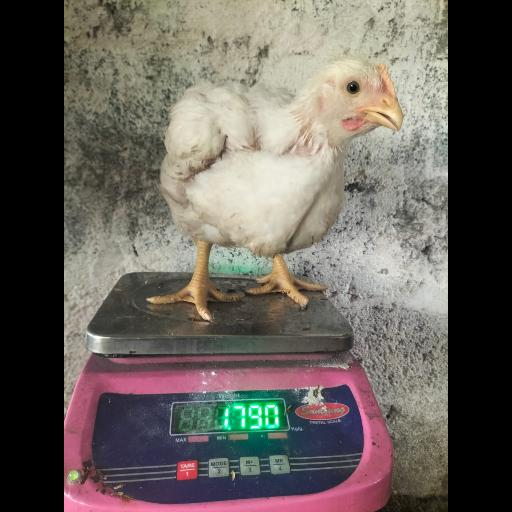chick: (150, 64, 399, 323)
